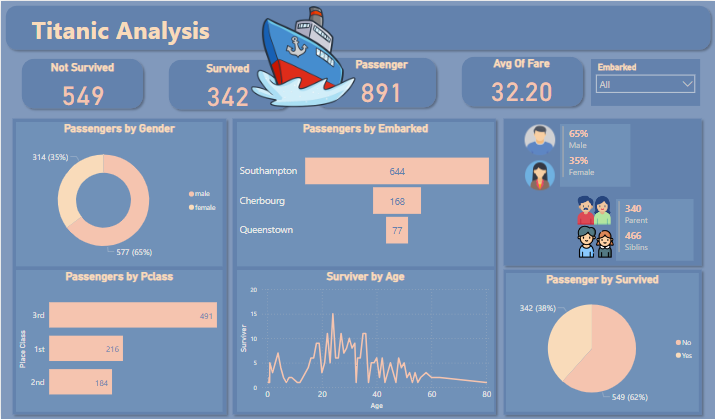

Layout of this report page (visuals, bound fields, positions):
{"tool":"powerbi","page":{"name":"Page 1","canvas":[1400,820],"ordinal":0},"visuals":[{"type":"card","title":"Avg Of Fare","fields":{"Values":["Avg(titanic.Fare)"]},"box":[794,242,198,100],"z":0},{"type":"shape","box":[14,222,437,598],"z":1000},{"type":"shape","box":[446,222,534,598],"z":2000},{"type":"donutChart","title":"Passengers by Gender","fields":{"Y":["CountNonNull(titanic.PassengerId)"],"Category":["titanic.Sex"]},"box":[30,237,405,283],"z":3000},{"type":"funnel","title":"Passengers by Embarked","fields":{"Category":["titanic.Embarked"],"Y":["CountNonNull(titanic.PassengerId)"]},"box":[462,237,504,283],"z":4000},{"type":"lineChart","title":"Surviver by Age","fields":{"Y":["CountNonNull(titanic.PassengerId)"],"Category":["titanic.Age"]},"box":[462,528,504,278],"z":5000},{"type":"shape","box":[975.7,517.4,406.4,302.6],"z":6000},{"type":"pieChart","title":"Passenger by Survived","fields":{"Category":["titanic.Survived"],"Y":["CountNonNull(titanic.PassengerId)"]},"box":[990,534,378,272],"z":7000},{"type":"shape","box":[976,222,406,306],"z":8000},{"type":"multiRowCard","fields":{"Values":["titanic.MalePrc","titanic.FemalePrc"]},"box":[1096,242,138,123],"z":9000},{"type":"barChart","title":"Passengers by Pclass","fields":{"Category":["titanic.Pclass"],"Y":["CountNonNull(titanic.PassengerId)"]},"box":[30,528,405,278],"z":10000},{"type":"shape","box":[0,0,1400,104.6],"z":11000},{"type":"shape","box":[32,104,256,116],"z":12000},{"type":"card","title":"Not Survived","fields":{"Values":["titanic.#NotSurvived"]},"box":[44.8,118.2,229.2,98.5],"z":13000},{"type":"textbox","box":[55.5,0,805.6,94.9],"z":14000},{"type":"slicer","fields":{"Values":["titanic.Embarked"]},"box":[1156,114,214,92],"z":15000},{"type":"image","box":[1014.7,306.4,86.2,71.6],"z":16000},{"type":"image","box":[1014.7,236.7,86.2,69.7],"z":17000},{"type":"multiRowCard","fields":{"Values":["Sum(titanic.Parch)","Sum(titanic.SibSp)"]},"box":[1206,388,152,121],"z":18000},{"type":"image","box":[1124.7,370.4,75.2,78.9],"z":19000},{"type":"image","box":[1124.7,427.3,80.7,89.9],"z":20000},{"type":"shape","box":[319.3,106,256,116],"z":21000},{"type":"shape","box":[606.7,102,256,116],"z":22000},{"type":"shape","box":[894,100,256,116],"z":23000},{"type":"image","box":[470,0,244,222],"z":24000},{"type":"card","title":"Survived","fields":{"Values":["titanic.#Survived"]},"box":[330,120,230,100],"z":25000},{"type":"card","title":"Passenger","fields":{"Values":["titanic.#Passenger"]},"box":[632,112,230,100],"z":26000},{"type":"card","title":"Avg Of Fare","fields":{"Values":["Avg(titanic.Fare)"]},"box":[906,110,230,100],"z":27000}]}

Visuals, with their boxes in screenshot pixels (x1, y1, x2, y2), scaled from the page's 1400x820 canvas onto the 715x419 screenshot:
"Avg Of Fare" card: (406, 124, 507, 175)
shape: (7, 113, 230, 418)
shape: (228, 113, 500, 418)
"Passengers by Gender" donutChart: (15, 121, 222, 266)
"Passengers by Embarked" funnel: (236, 121, 493, 266)
"Surviver by Age" lineChart: (236, 270, 493, 412)
shape: (498, 264, 706, 418)
"Passenger by Survived" pieChart: (506, 273, 699, 412)
shape: (498, 113, 706, 270)
multiRowCard - titanic.MalePrc x titanic.FemalePrc: (560, 124, 630, 187)
"Passengers by Pclass" barChart: (15, 270, 222, 412)
shape: (0, 0, 714, 53)
shape: (16, 53, 147, 112)
"Not Survived" card: (23, 60, 140, 111)
textbox: (28, 0, 440, 48)
slicer - titanic.Embarked: (590, 58, 700, 105)
image: (518, 157, 562, 193)
image: (518, 121, 562, 157)
multiRowCard - Sum(titanic.Parch) x Sum(titanic.SibSp): (616, 198, 694, 260)
image: (574, 189, 613, 230)
image: (574, 218, 616, 264)
shape: (163, 54, 294, 113)
shape: (310, 52, 441, 111)
shape: (457, 51, 587, 110)
image: (240, 0, 365, 113)
"Survived" card: (169, 61, 286, 112)
"Passenger" card: (323, 57, 440, 108)
"Avg Of Fare" card: (463, 56, 580, 107)
